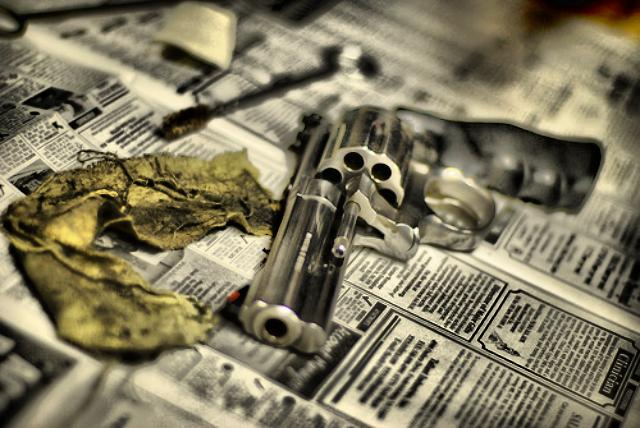pistol: (222, 104, 604, 350)
